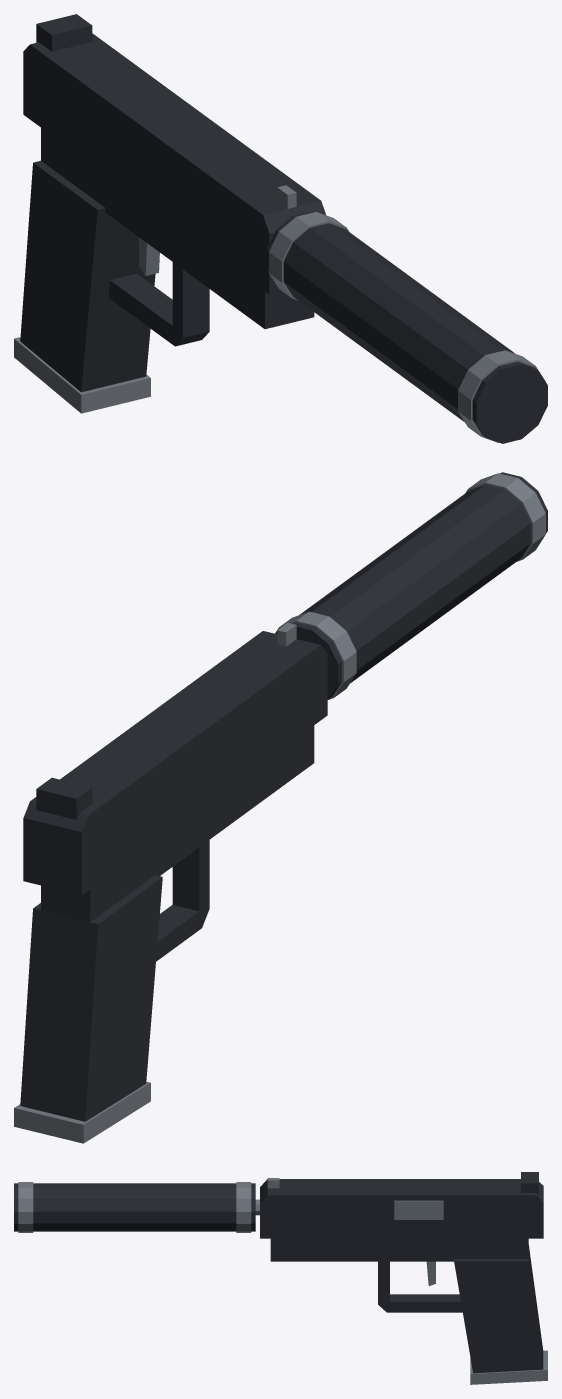
Rendered from pistol_silenced.glb.
3 renders of one model, top to bottom at view 1: azimuth 30°, elevation 25°; view 2: azimuth 150°, elevation 25°; view 3: azimuth 270°, elevation 25°, orthographic. The views are drawn at different scales.
Parts seen in each view (by area): view 1: pistol_silenced_mesh; view 2: pistol_silenced_mesh; view 3: pistol_silenced_mesh.
Boxes of the visible parts, x1,y1,x2,y2 form: pistol_silenced_mesh: (14, 14, 547, 443); pistol_silenced_mesh: (14, 472, 547, 1143); pistol_silenced_mesh: (14, 1172, 547, 1384).
Size of the model in its own units: 0.0334 by 0.146 by 0.358.
Materials: 1 (1 with a texture image).
